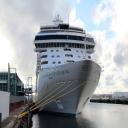cruises: (33, 12, 104, 122)
